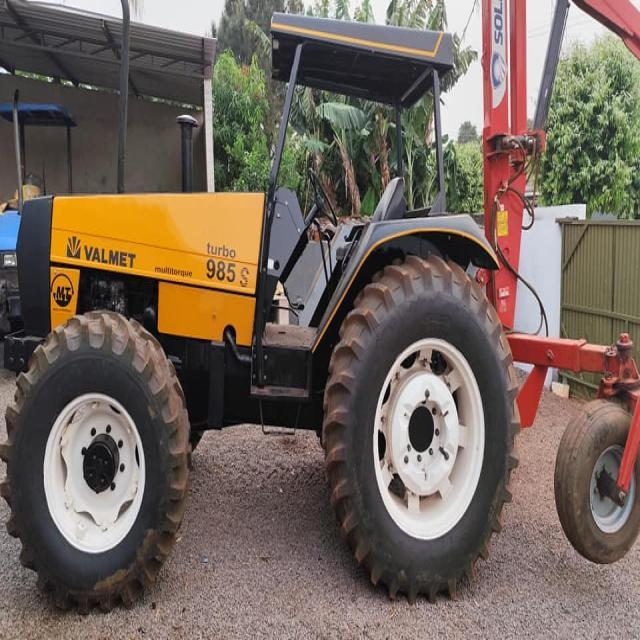Tratores - v5 YOLO V8L 2024-11-13: (4, 10, 522, 618)
